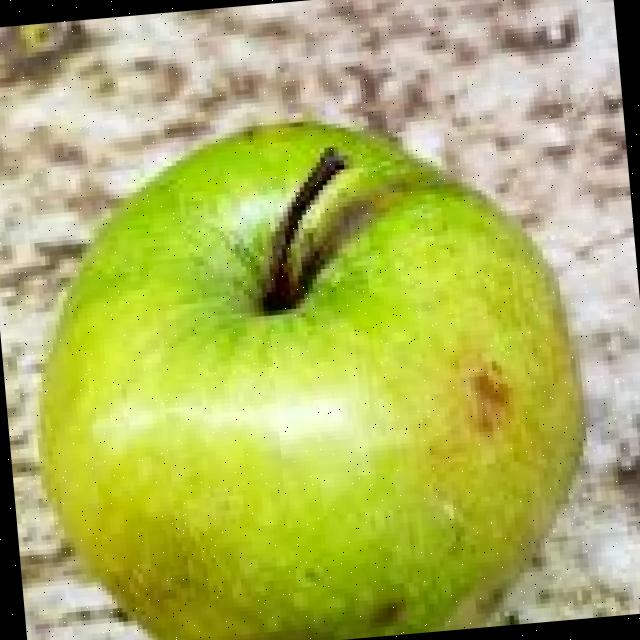Good_Apple 10-21 days: (39, 121, 584, 640)
